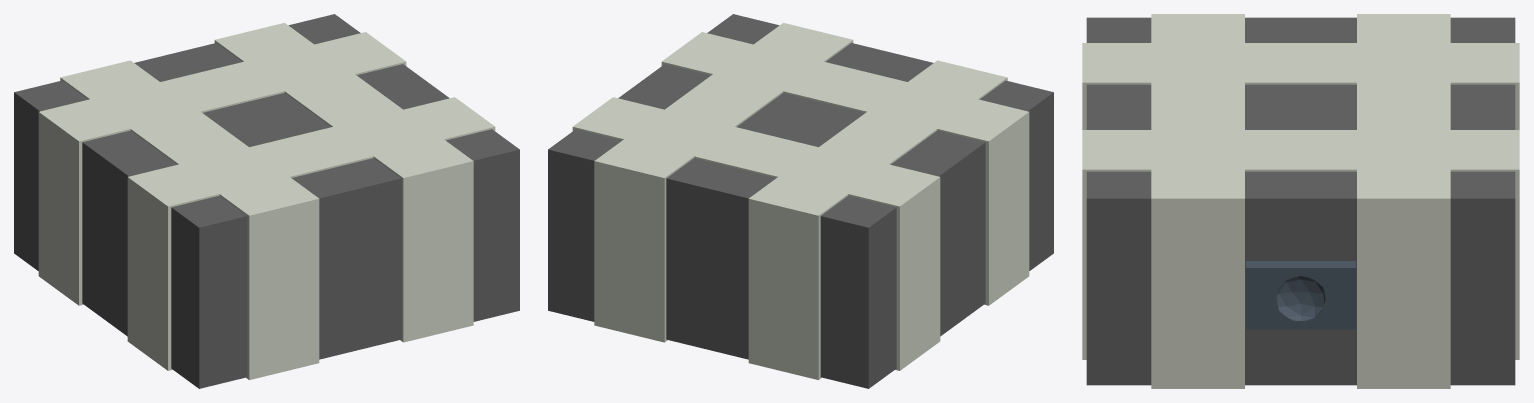
Rendered from lootbox 1.fbx.
3 views of the same model, side by side, from view 1: azimuth 30°, elevation 25°; view 2: azimuth 150°, elevation 25°; view 3: azimuth 270°, elevation 25° (orthographic). The views are drawn at different scales.
Visible parts, largest first — view 1: Cube.014, Cube.016, Cube.015; view 2: Cube.014, Cube.016, Cube.015; view 3: Cube.015, Cube.014, Cube.016, Cube.017.
Boxes of the visible parts, bbox=[...] form: Cube.014: bbox=[14, 14, 519, 388]; Cube.016: bbox=[60, 23, 473, 379]; Cube.015: bbox=[38, 32, 495, 370]; Cube.014: bbox=[548, 14, 1053, 388]; Cube.016: bbox=[594, 23, 1007, 379]; Cube.015: bbox=[572, 32, 1029, 370]; Cube.015: bbox=[1151, 14, 1450, 388]; Cube.014: bbox=[1086, 17, 1515, 385]; Cube.016: bbox=[1082, 43, 1519, 359]; Cube.017: bbox=[1246, 261, 1355, 329].
Bounding box in the file's own units: 62.2 × 63.85 × 29.87.
